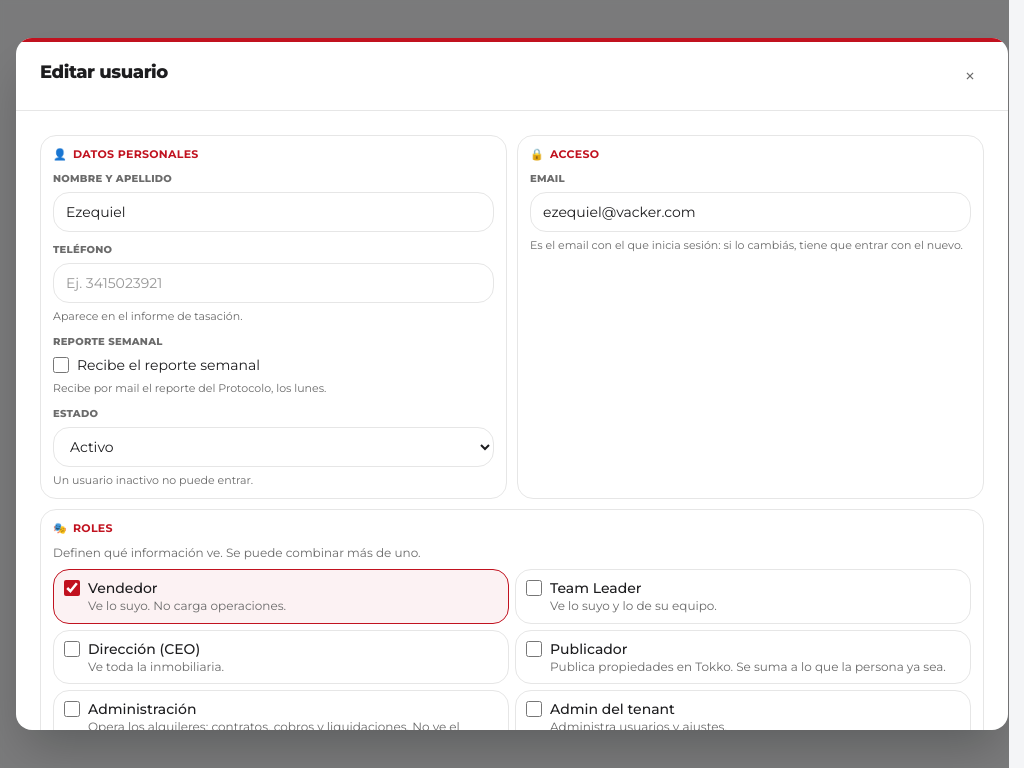
it: UsuarioAdminFormModal › no deja guardar sin ningún rol
The image size is (1024, 768).
Click the checkbox labelled "Vendedor Ve lo suyo. No carga operaciones.".
click(72, 588)  # box [64,580,80,596]
(page scrolled)
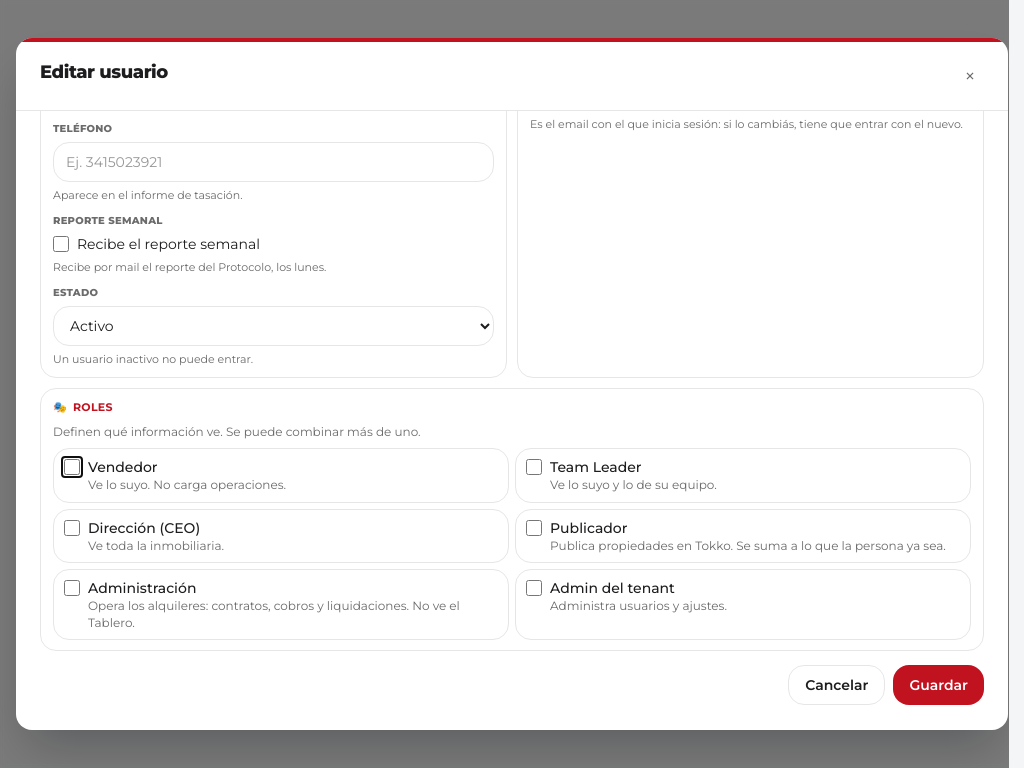
Click the button "Guardar".
click(939, 685)  # box [893,665,984,705]
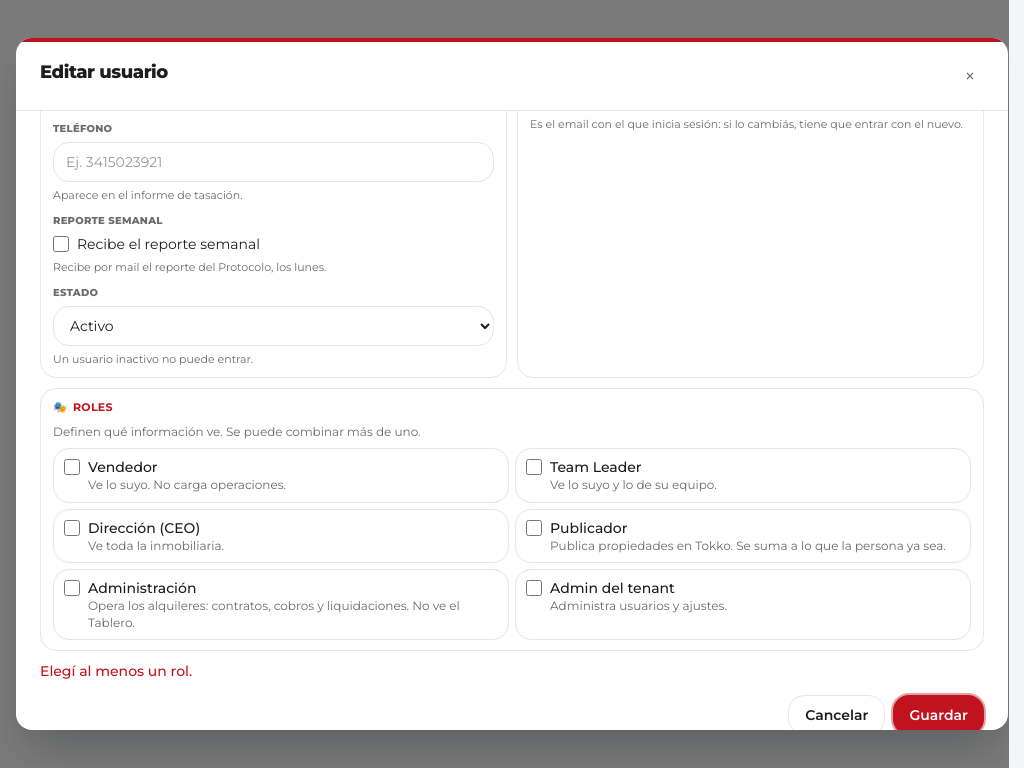
Expected: the message reads "Elegí al menos un rol.", [40,662,192,680]
